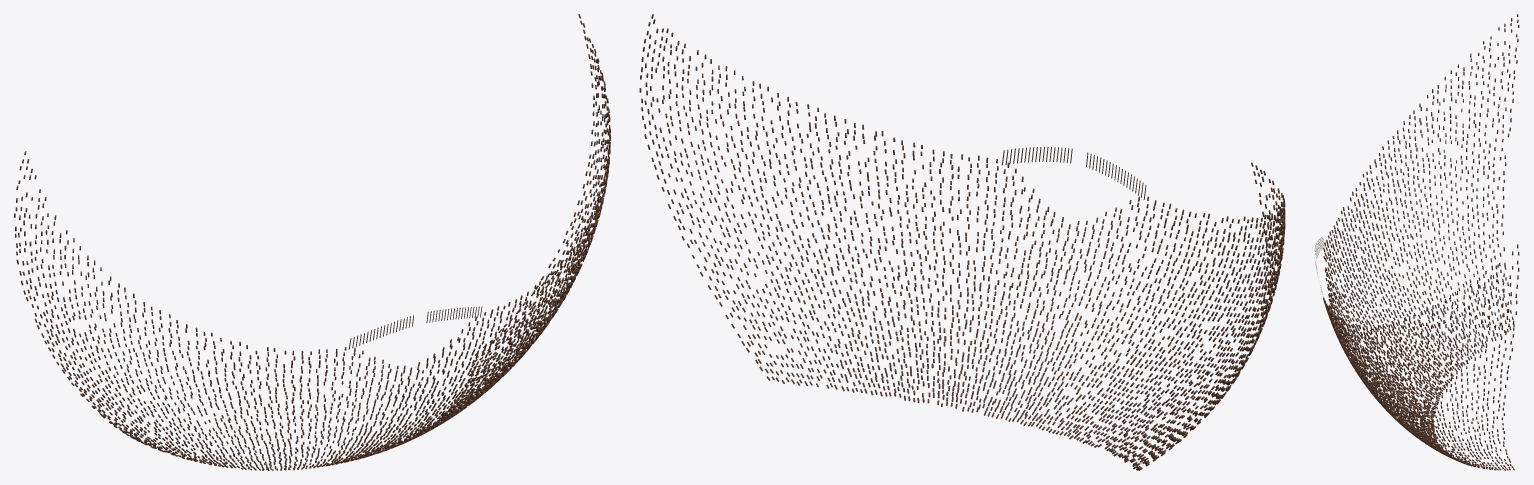
The model's file is Masculine-groom-stubble.glb.
The picture shows the model from 3 angles, left to right: view 1: azimuth 30°, elevation 25°; view 2: azimuth 150°, elevation 25°; view 3: azimuth 270°, elevation 25°; orthographic projection. The views are drawn at different scales.
Parts seen in each view (by area): view 1: Groom / clean stubble183; view 2: Groom / clean stubble183; view 3: Groom / clean stubble183.
Part boxes in pixels (x1,y1,x2,y2): Groom / clean stubble183: (14, 14, 610, 470); Groom / clean stubble183: (639, 14, 1285, 470); Groom / clean stubble183: (1314, 14, 1519, 470).
Size of the model in its own units: 0.9574 by 0.5433 by 0.3416.
